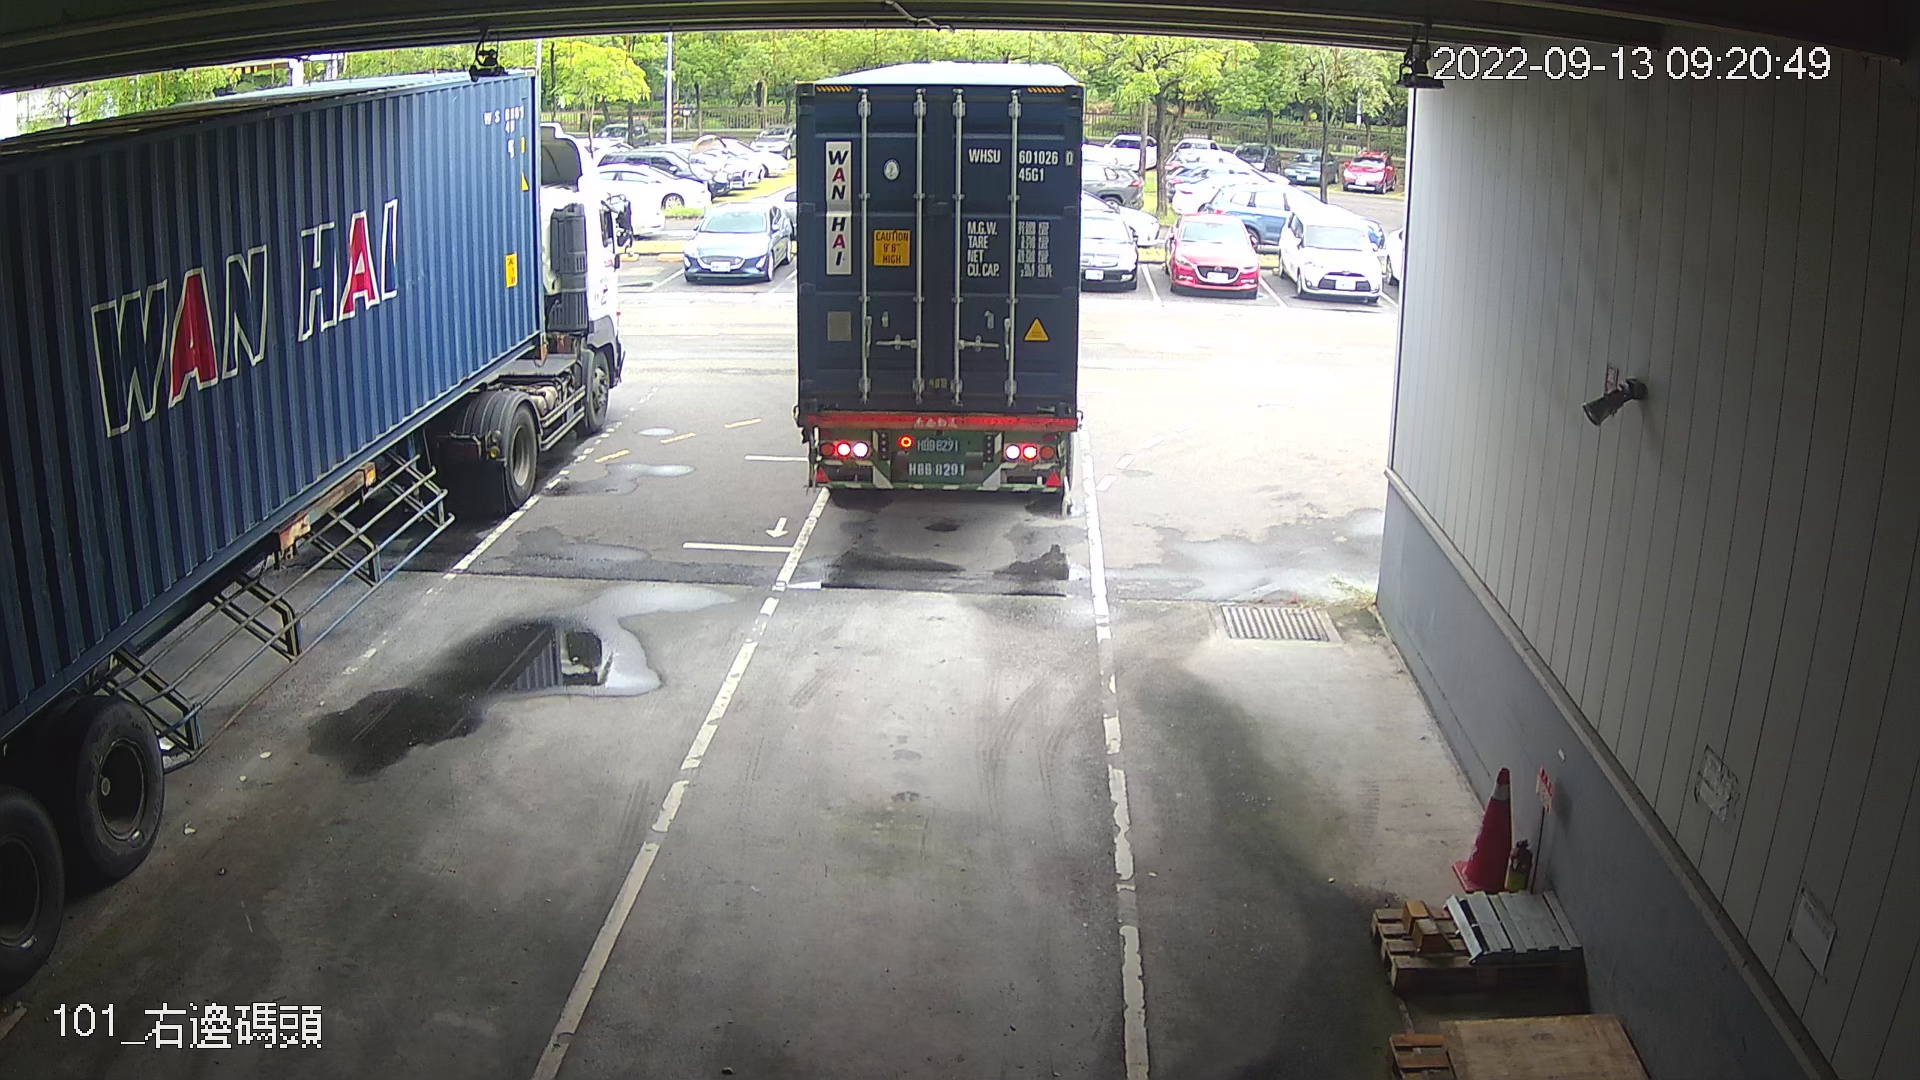container: (967, 141, 1077, 189)
